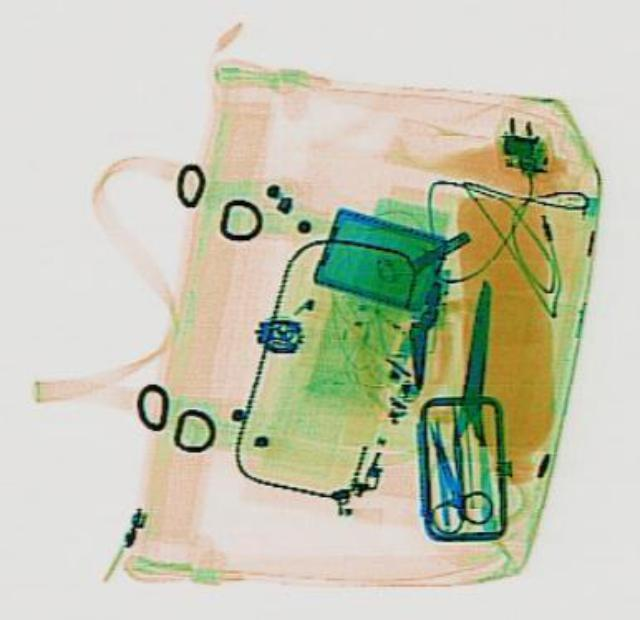Scissors: (397, 412, 497, 535)
